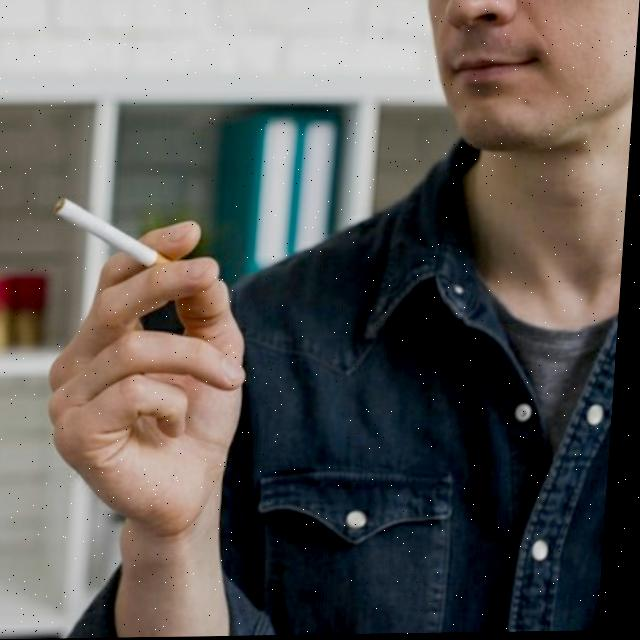cigarette: (52, 196, 182, 269)
